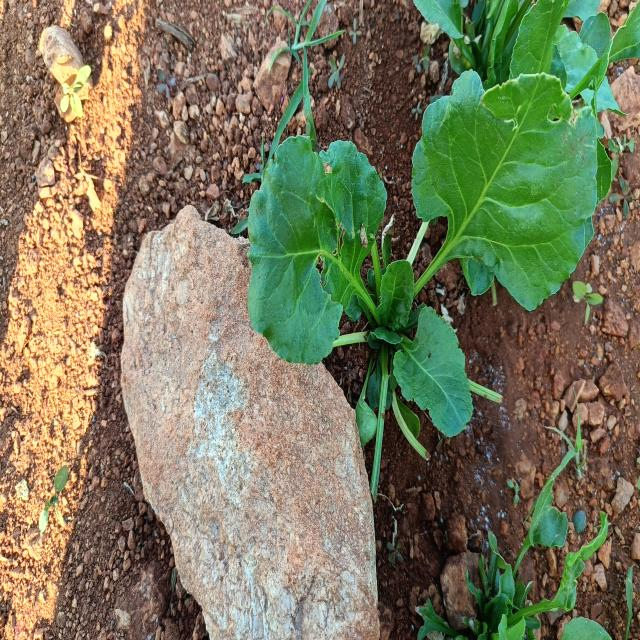leaves: (406, 64, 613, 364), (243, 108, 385, 379)
